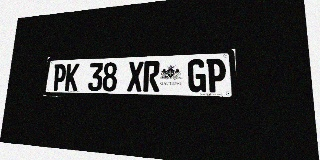3: (88, 63, 103, 91)
8: (102, 62, 118, 91)
G: (188, 59, 206, 92)
K: (64, 63, 80, 91)
P: (206, 58, 226, 92), (52, 64, 67, 91)
R: (143, 61, 160, 92)
X: (127, 61, 144, 92)
